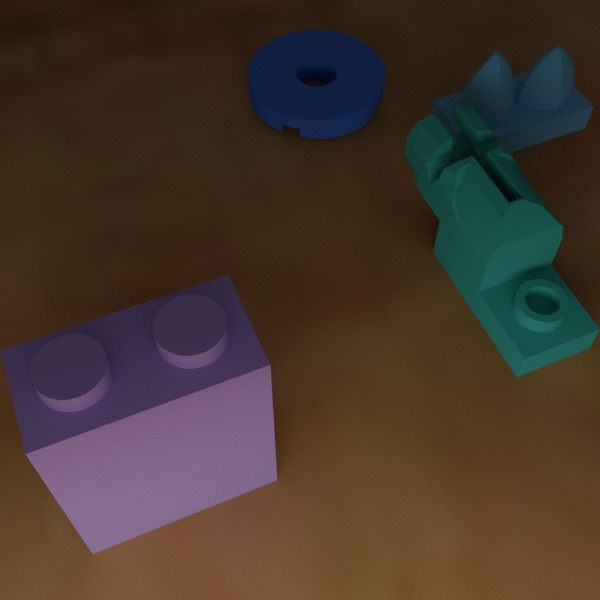lego: (0, 274, 277, 554), (404, 105, 599, 377), (429, 45, 593, 167), (247, 30, 385, 139)
